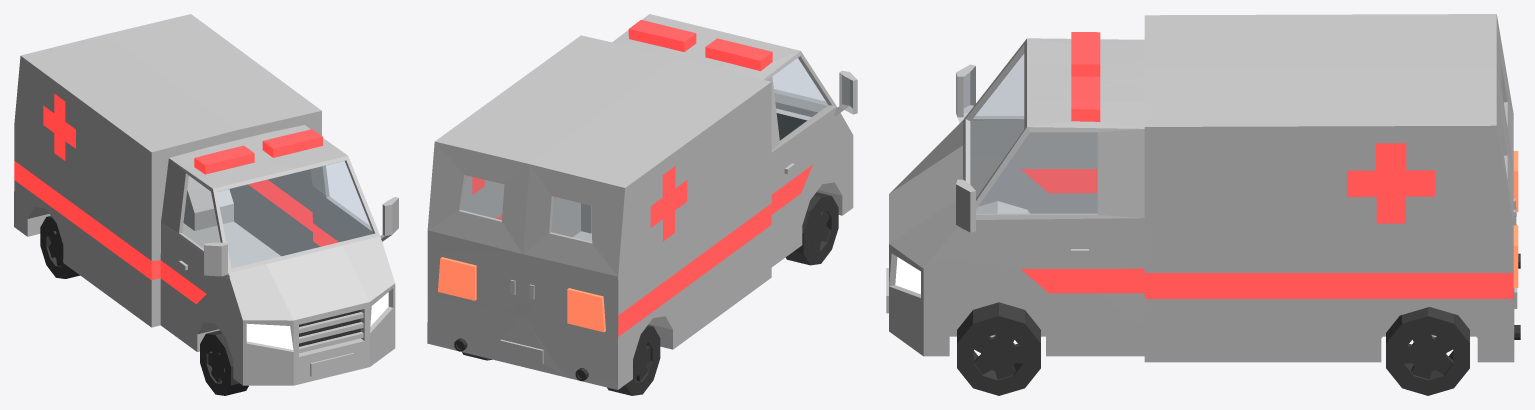
The model's file is ambulance.glb.
3 views of the same model, side by side, from view 1: azimuth 30°, elevation 25°; view 2: azimuth 150°, elevation 25°; view 3: azimuth 270°, elevation 25° (orthographic). The views are drawn at different scales.
Parts seen in each view (by area): view 1: Ambulance, Ambulance wheel front right, Ambulance wheel rear right; view 2: Ambulance, Ambulance wheel front right, Ambulance wheel rear right; view 3: Ambulance, Ambulance wheel front left, Ambulance wheel rear left.
Boxes of the visible parts, x1,y1,x2,y2 form: Ambulance: (14,14,398,385); Ambulance wheel front right: (200,330,248,395); Ambulance wheel rear right: (40,216,79,278); Ambulance: (427,14,857,389); Ambulance wheel front right: (785,192,838,265); Ambulance wheel rear right: (607,325,660,395); Ambulance: (886,14,1520,362); Ambulance wheel front left: (957,302,1040,395); Ambulance wheel rear left: (1386,307,1469,395).
Size of the model in its own units: 2.81 by 2.85 by 5.91.
